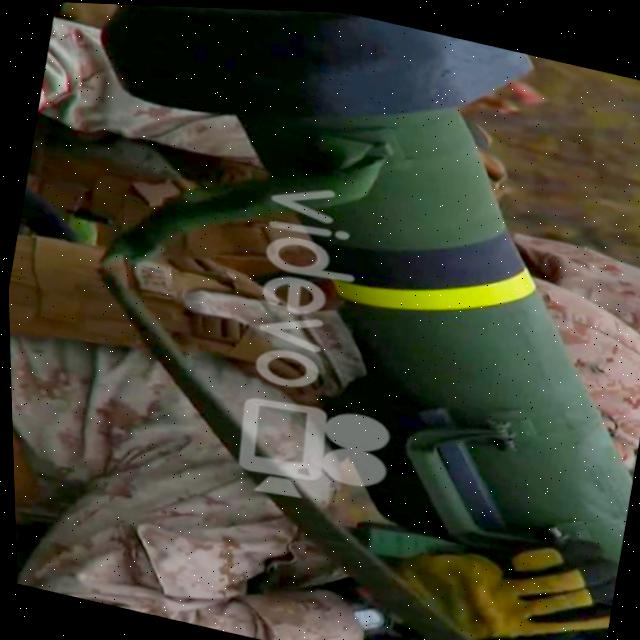rocket: (23, 1, 640, 606)
